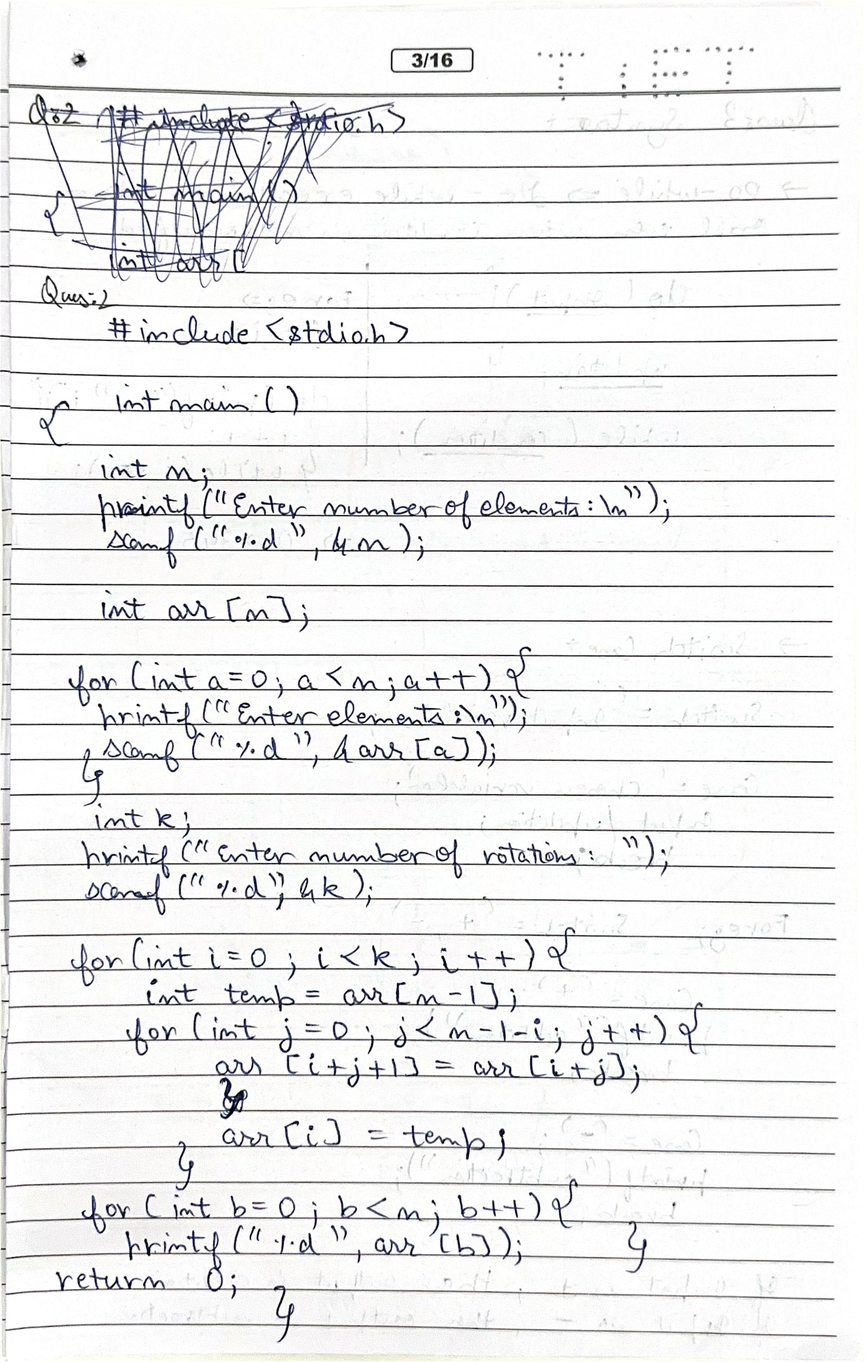cuttings: (21, 89, 417, 294)
